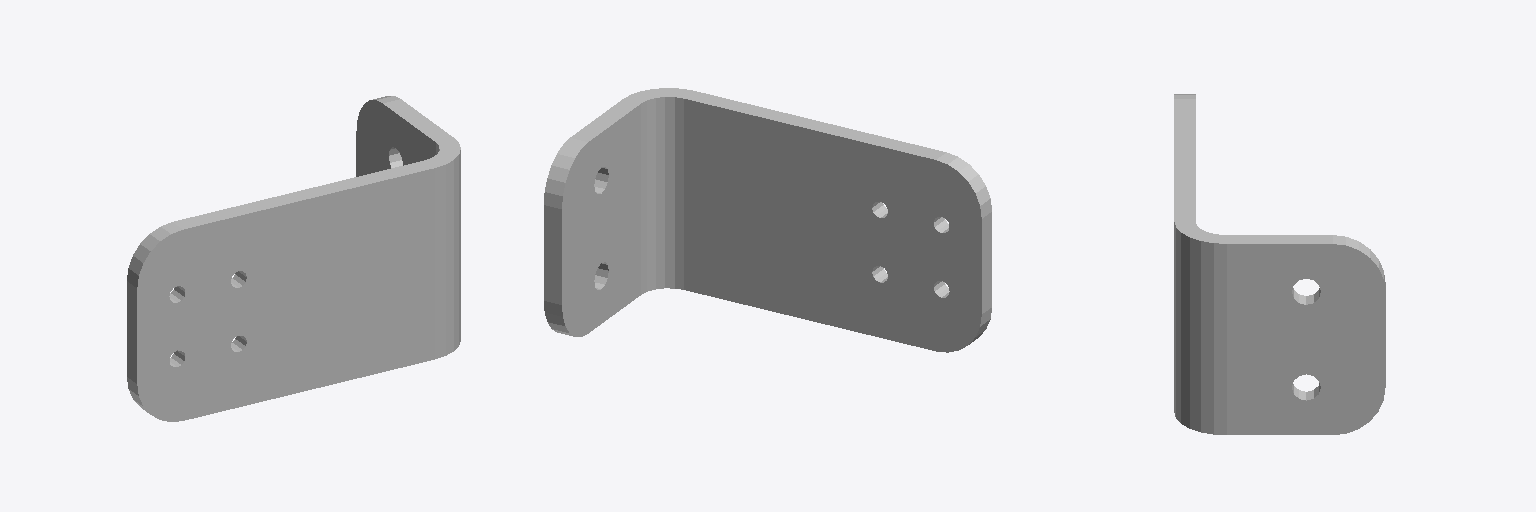
File: lf-thruster-mount_visual_lf-thruster-mount.obj
3 renders of one model, left to right at view 1: azimuth 30°, elevation 25°; view 2: azimuth 150°, elevation 25°; view 3: azimuth 270°, elevation 25°, orthographic.
Visible parts, largest first — view 1: lf-thruster-mount_visual_lf-thruster-mount; view 2: lf-thruster-mount_visual_lf-thruster-mount; view 3: lf-thruster-mount_visual_lf-thruster-mount.
Part boxes in pixels (x1,y1,x2,y2): lf-thruster-mount_visual_lf-thruster-mount: (127,96,460,421); lf-thruster-mount_visual_lf-thruster-mount: (544,88,991,352); lf-thruster-mount_visual_lf-thruster-mount: (1174,94,1385,434).
Bounding box in the file's own units: 0.075 × 0.04 × 0.04.